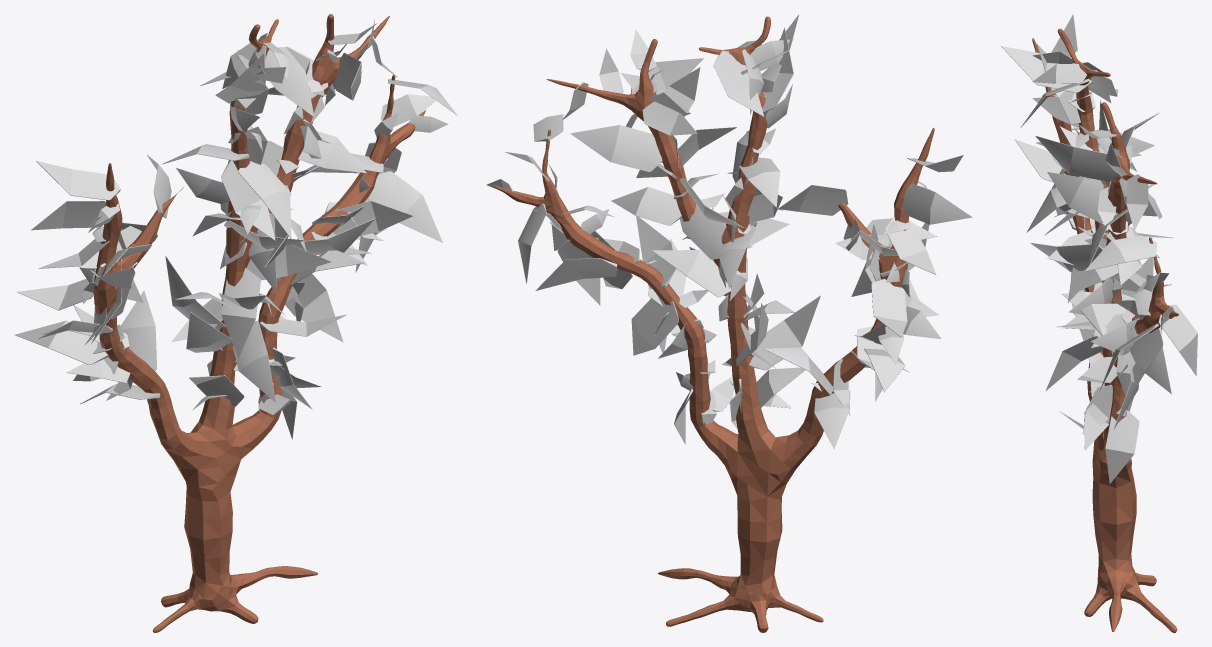
Rendered from Tree1.fbx.
3 renders of one model, left to right at view 1: azimuth 30°, elevation 25°; view 2: azimuth 150°, elevation 25°; view 3: azimuth 270°, elevation 25°, orthographic. The views are drawn at different scales.
Parts seen in each view (by area): view 1: Tree1.001; view 2: Tree1.001; view 3: Tree1.001.
Part boxes in pixels (left/top/right/bottom): Tree1.001: left=14, top=14, right=457, bottom=632; Tree1.001: left=486, top=14, right=972, bottom=632; Tree1.001: left=1001, top=14, right=1197, bottom=632.
Size of the model in its own units: 244 by 93.59 by 306.
